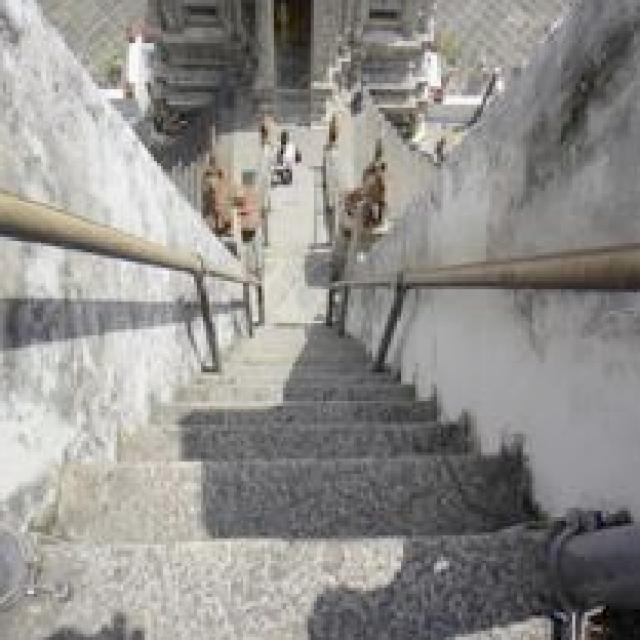downstair: (47, 287, 552, 555)
